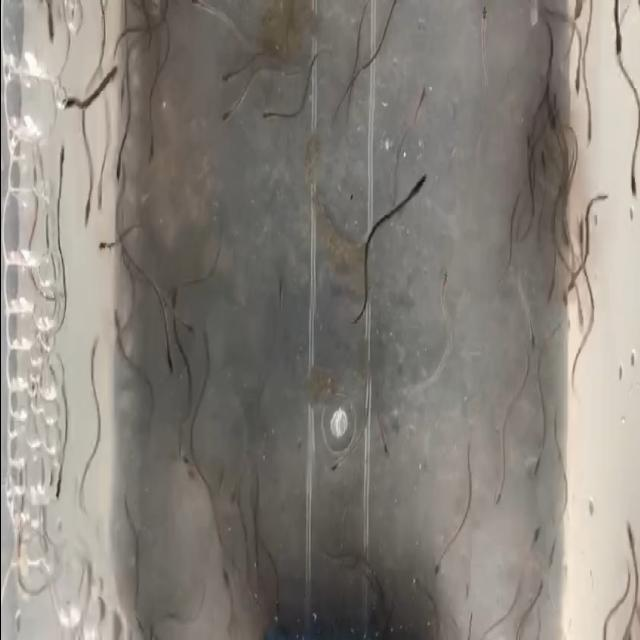active_glass_eel: (572, 109, 596, 180), (521, 436, 545, 492), (532, 133, 552, 195), (374, 434, 400, 476), (318, 449, 348, 484), (484, 479, 506, 526), (406, 168, 432, 204), (604, 26, 625, 68), (563, 258, 583, 300), (412, 71, 430, 116), (616, 522, 636, 561), (84, 237, 108, 267), (188, 0, 211, 31), (622, 159, 636, 209), (112, 142, 124, 198), (148, 125, 162, 171), (526, 523, 542, 561), (479, 0, 488, 66), (52, 459, 66, 501), (542, 267, 558, 303), (213, 574, 236, 599), (526, 310, 542, 344), (402, 580, 421, 608), (428, 552, 450, 576), (526, 580, 546, 606), (218, 101, 232, 137), (186, 310, 196, 360), (215, 56, 231, 87), (272, 282, 291, 308), (61, 88, 79, 114), (166, 342, 176, 388), (88, 335, 102, 367), (567, 0, 581, 32), (76, 199, 92, 226), (434, 272, 448, 302), (94, 183, 108, 212), (258, 95, 270, 128), (114, 300, 124, 336), (571, 67, 582, 95), (56, 146, 68, 170), (46, 22, 56, 50)
